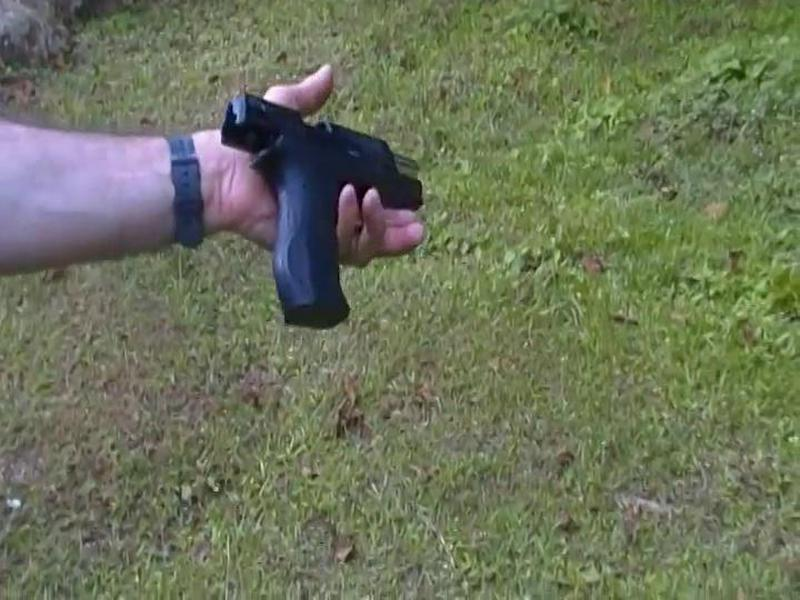Pistola: (204, 83, 456, 332)
